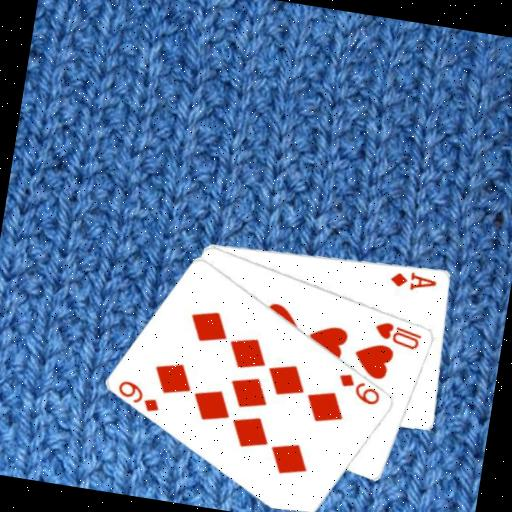10H: (370, 317, 425, 352)
9D: (333, 368, 385, 407), (112, 375, 164, 414)
AD: (386, 265, 439, 295)
